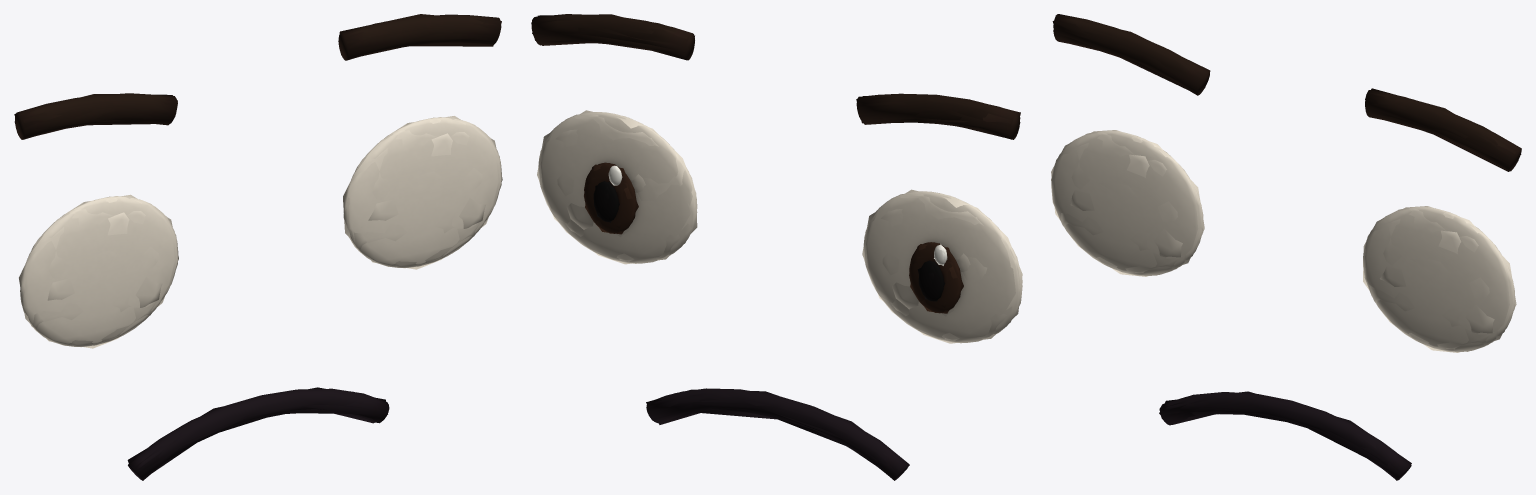
Rendered from sad.glb.
3 renders of one model, left to right at view 1: azimuth 30°, elevation 25°; view 2: azimuth 150°, elevation 25°; view 3: azimuth 330°, elevation 25°, orthographic. The views are drawn at different scales.
Visible parts, largest first — view 1: near, mid, far; view 2: near, mid, far; view 3: near, mid, far.
Boxes of the visible parts, x1=… form: near: x1=15, y1=14, x2=501, y2=480; mid: x1=14, y1=14, x2=501, y2=480; far: x1=14, y1=14, x2=502, y2=473; near: x1=531, y1=14, x2=1022, y2=480; mid: x1=531, y1=14, x2=1022, y2=479; far: x1=532, y1=14, x2=1022, y2=478; near: x1=1051, y1=14, x2=1521, y2=480; mid: x1=1051, y1=15, x2=1521, y2=477; far: x1=1051, y1=20, x2=1521, y2=479.
Size of the model in its own units: 0.6725 by 0.5296 by 0.0541.
Materials: 6 (6 with a texture image).
